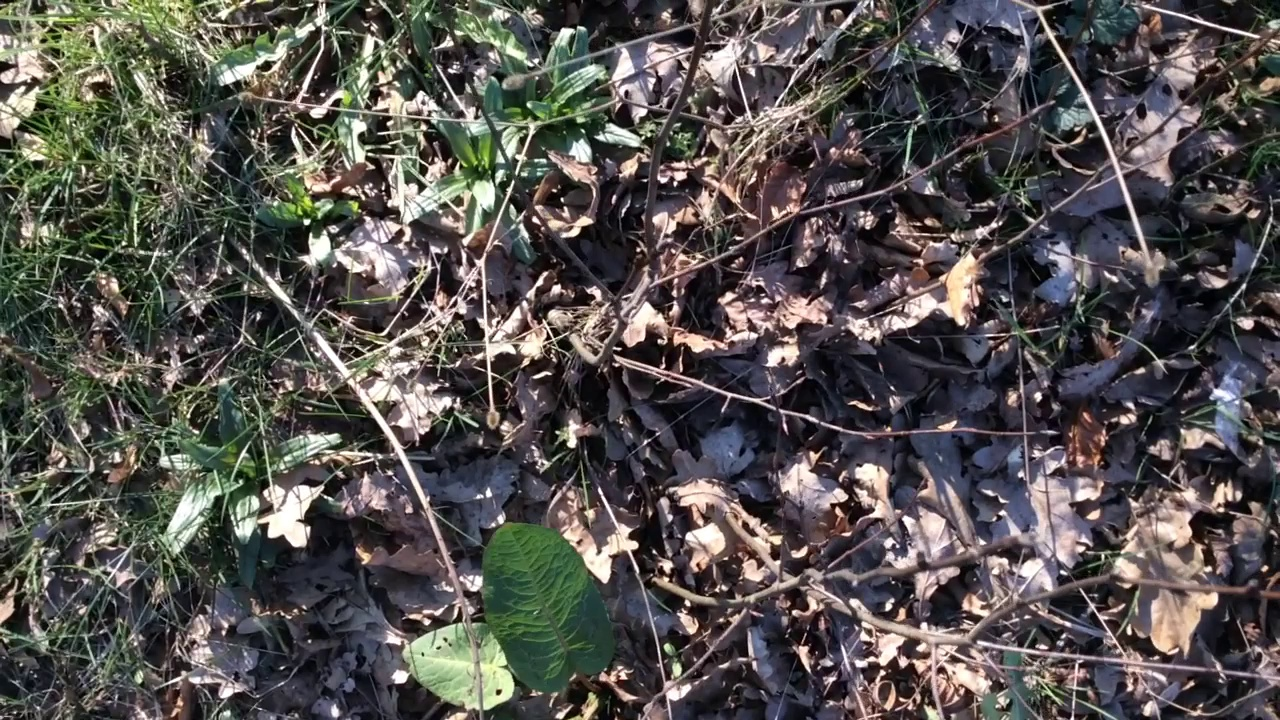rumex: (398, 523, 617, 713)
